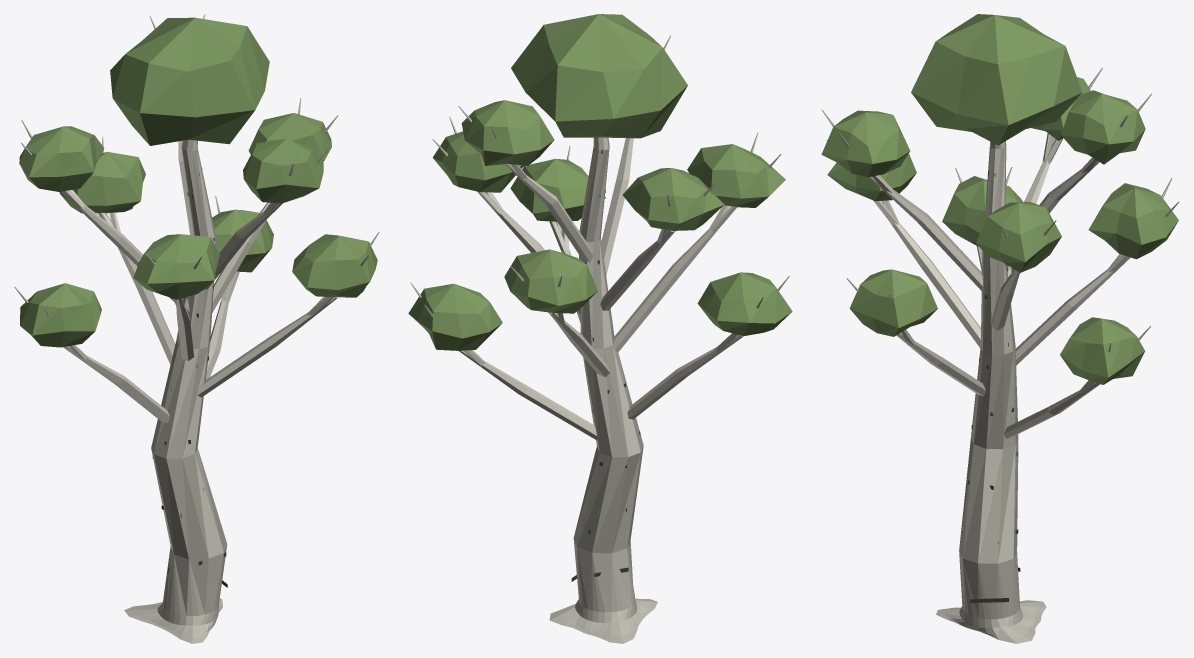
The model's file is birch_young.glb.
3 views of the same model, side by side, from view 1: azimuth 30°, elevation 25°; view 2: azimuth 150°, elevation 25°; view 3: azimuth 270°, elevation 25° (orthographic). The views are drawn at different scales.
Visible parts, largest first — view 1: leaves, branches; view 2: leaves, branches; view 3: leaves, branches.
Boxes of the visible parts, <box> form: leaves: <box>19,17,377,347</box>; branches: <box>14,14,379,643</box>; leaves: <box>408,14,792,350</box>; branches: <box>411,35,789,643</box>; leaves: <box>821,14,1178,384</box>; branches: <box>822,67,1179,643</box>.
Size of the model in its own units: 1.15 by 2 by 1.06.
